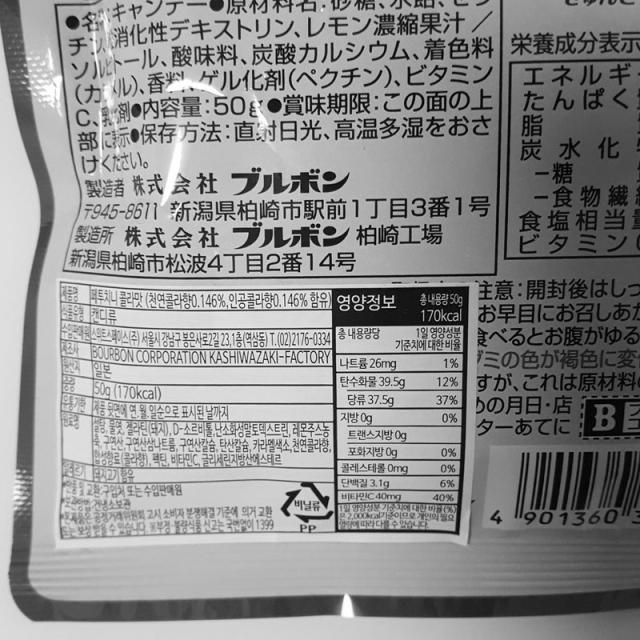Nutrition Label: (331, 280, 472, 543)
